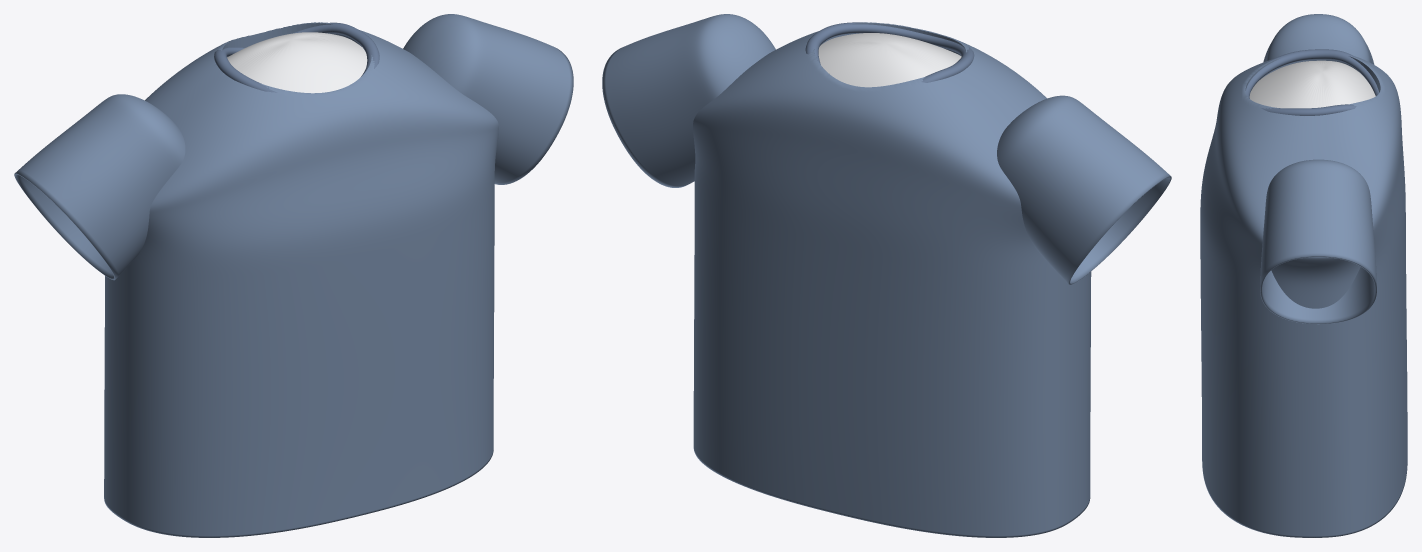
File: RobotTorso.fbx
3 views of the same model, side by side, from view 1: azimuth 30°, elevation 25°; view 2: azimuth 150°, elevation 25°; view 3: azimuth 270°, elevation 25° (orthographic). The views are drawn at different scales.
Visible parts, largest first — view 1: Torso_Tee, Torso_Sleeve_L, Torso_Sleeve_R, Torso_Shell, Torso_Collar; view 2: Torso_Tee, Torso_Sleeve_L, Torso_Sleeve_R, Torso_Shell, Torso_Collar; view 3: Torso_Tee, Torso_Sleeve_R, Torso_Shell, Torso_Sleeve_L, Torso_Collar.
Part boxes in pixels (box(x1,y1,x2,y2)): Torso_Tee: box(104, 22, 498, 537); Torso_Sleeve_L: box(14, 94, 185, 280); Torso_Sleeve_R: box(403, 14, 573, 184); Torso_Shell: box(227, 32, 367, 93); Torso_Collar: box(214, 22, 379, 92); Torso_Tee: box(693, 22, 1091, 537); Torso_Sleeve_L: box(997, 95, 1171, 284); Torso_Sleeve_R: box(602, 14, 775, 187); Torso_Shell: box(818, 33, 961, 87); Torso_Collar: box(805, 22, 974, 82); Torso_Tee: box(1200, 56, 1407, 537); Torso_Sleeve_R: box(1260, 159, 1376, 324); Torso_Shell: box(1249, 60, 1375, 108); Torso_Sleeve_L: box(1263, 14, 1374, 64); Torso_Collar: box(1245, 49, 1379, 115).
Size of the model in its own units: 0.6082 by 0.4994 by 0.2274.
